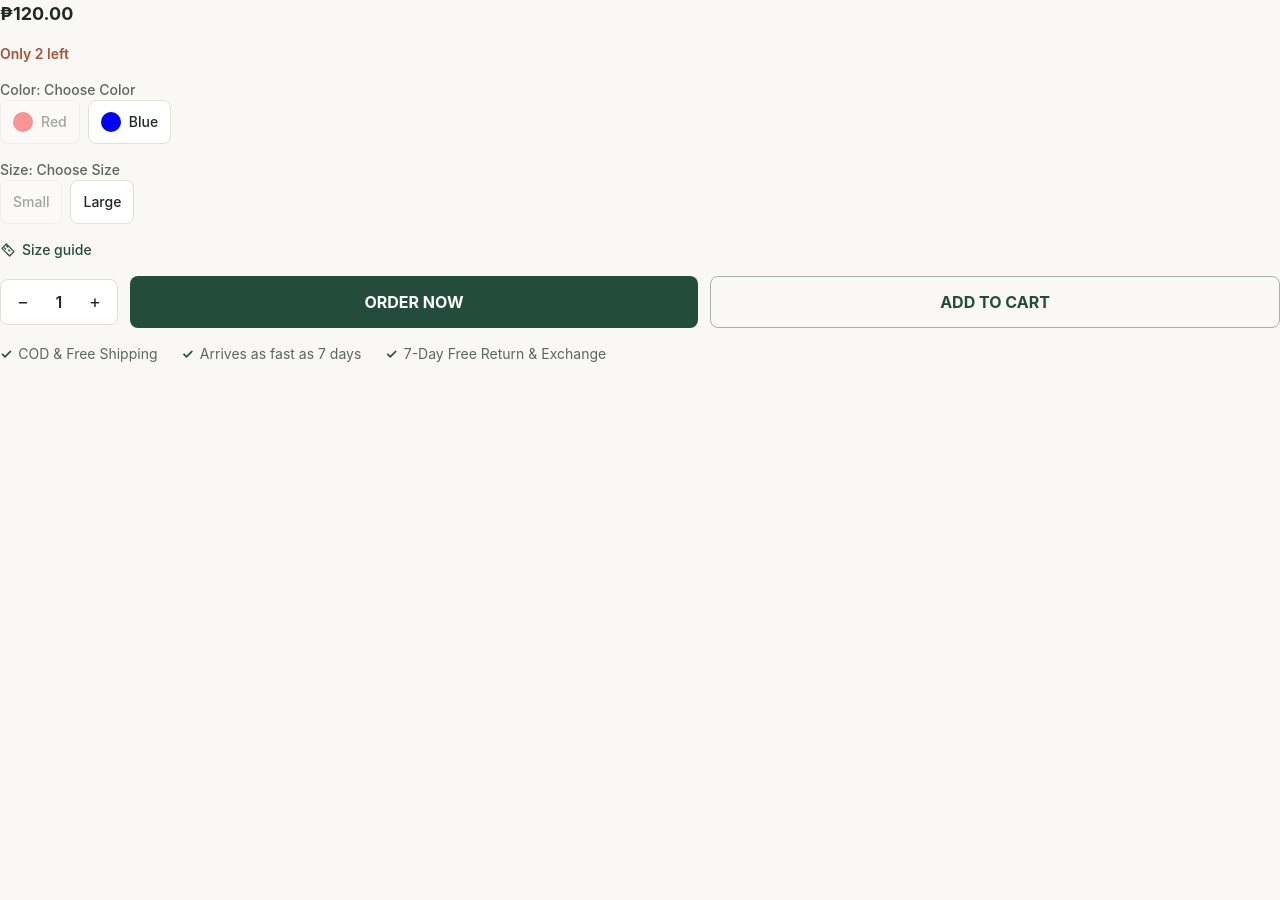
it: isolated landing purchase presentation › keeps an unavailable campaign target in the URL and requires an explicit alternative before adding
Click the button with test id "add-to-cart" at (995, 302), box [710,276,1279,328]
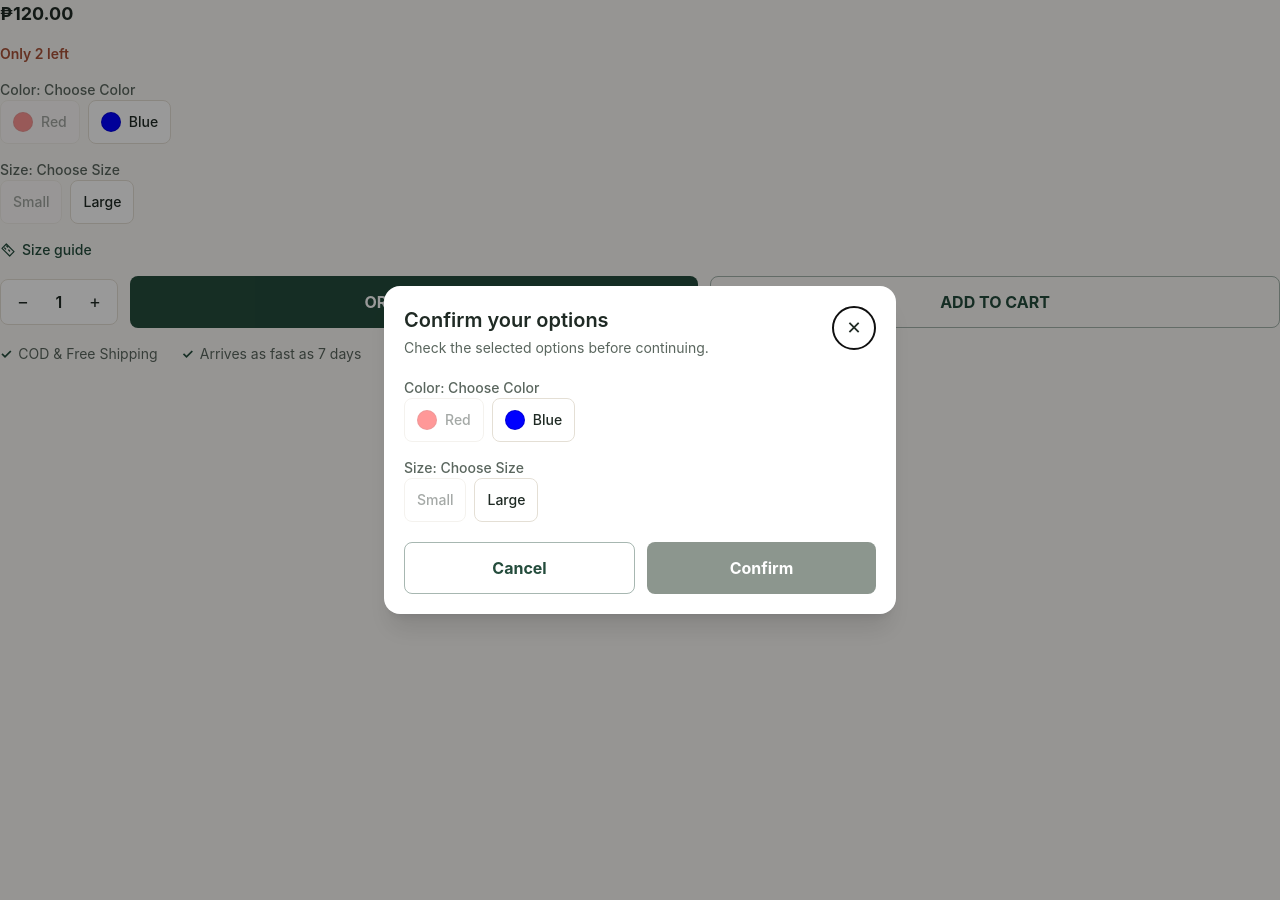
Expected: the dialog "Confirm your options" is shown, [384,286,896,614]
